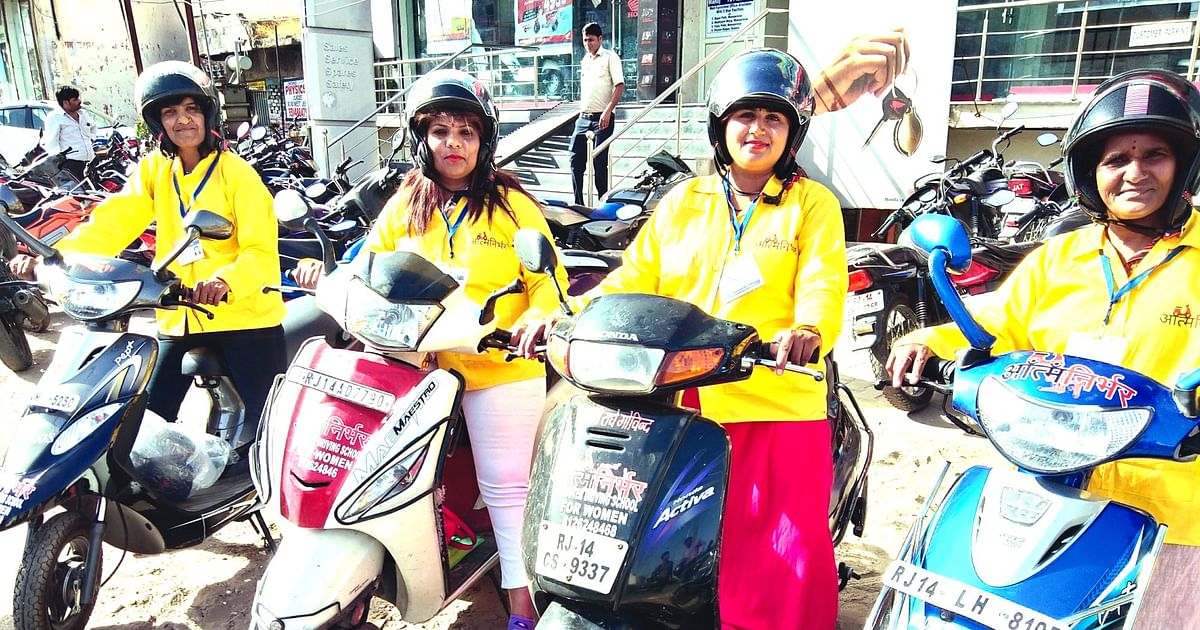bike: (519, 58, 856, 623), (880, 70, 1194, 630), (234, 71, 523, 625), (8, 62, 253, 627), (854, 196, 990, 373)
